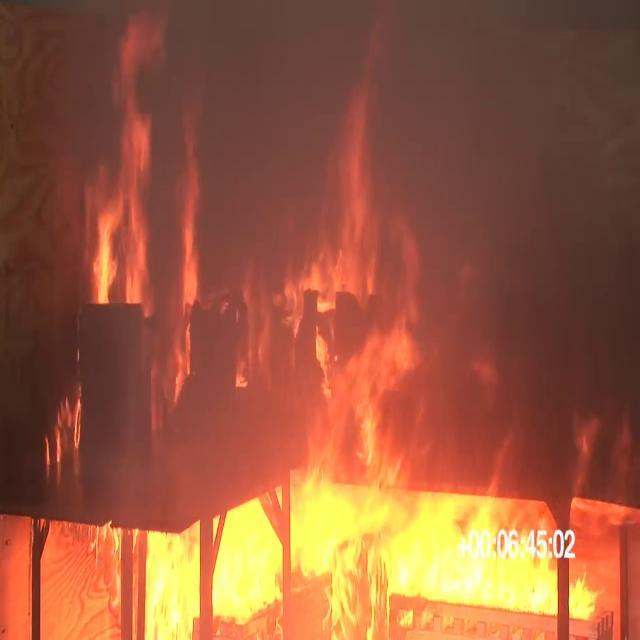Fire: (301, 486, 617, 640), (258, 243, 394, 458), (38, 522, 118, 640), (216, 501, 284, 629), (88, 183, 158, 302), (146, 530, 201, 640), (572, 577, 598, 622)
Smoke: (433, 6, 639, 412), (202, 1, 332, 245)
